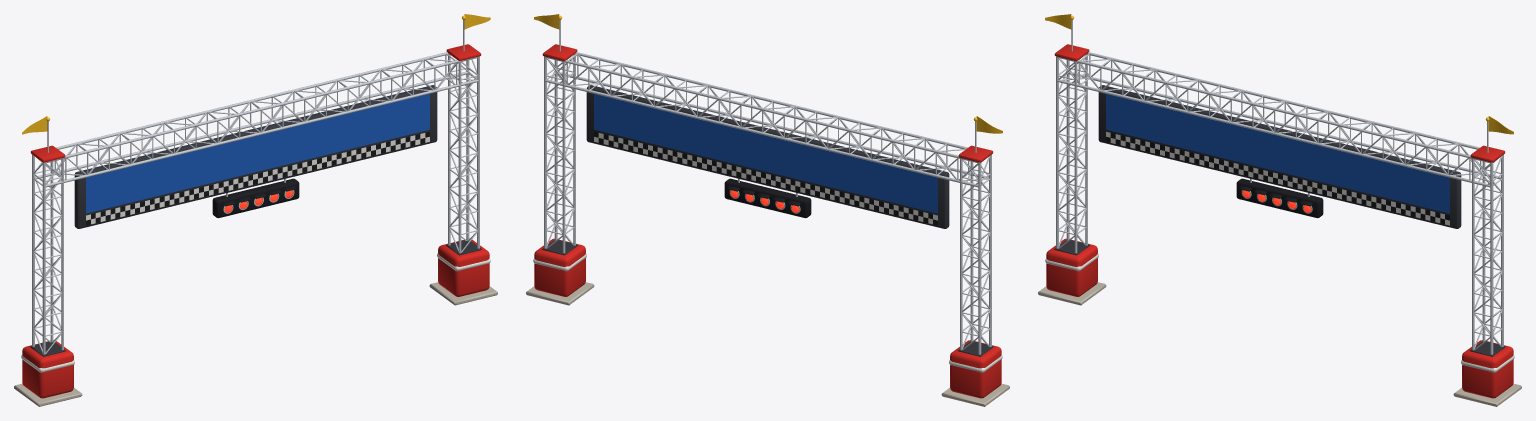
The model's file is start_arch.glb.
3 views of the same model, side by side, from view 1: azimuth 30°, elevation 25°; view 2: azimuth 150°, elevation 25°; view 3: azimuth 330°, elevation 25° (orthographic).
Parts seen in each view (by area): view 1: start_arch; view 2: start_arch; view 3: start_arch.
Part boxes in pixels (x1,y1,x2,y2): start_arch: (14,14,497,406); start_arch: (526,14,1009,406); start_arch: (1038,14,1521,406).
Size of the model in its own units: 20.28 by 11.47 by 1.9.
